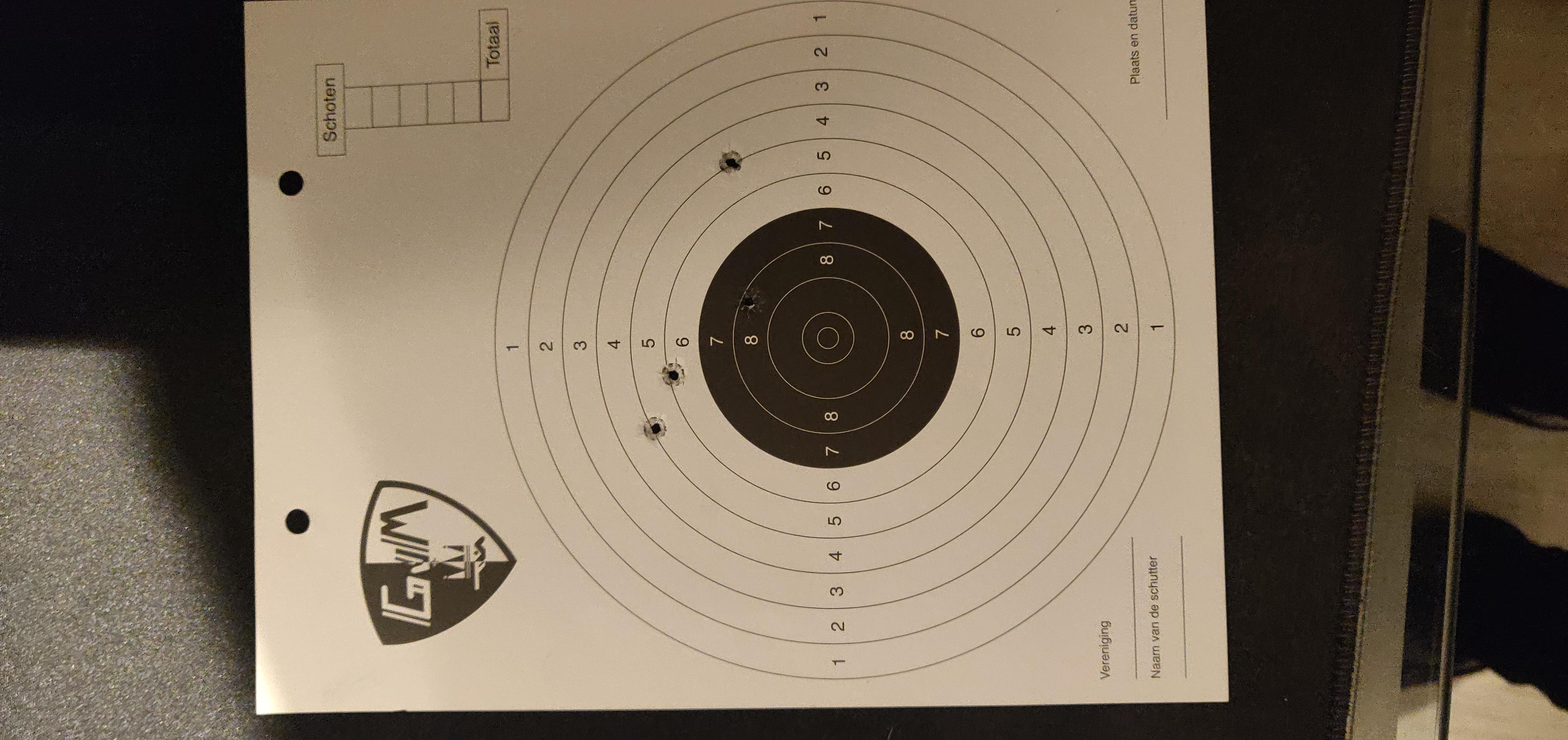hole: (893, 346, 969, 363), (623, 300, 696, 316), (741, 311, 812, 325), (1191, 337, 1258, 351)
